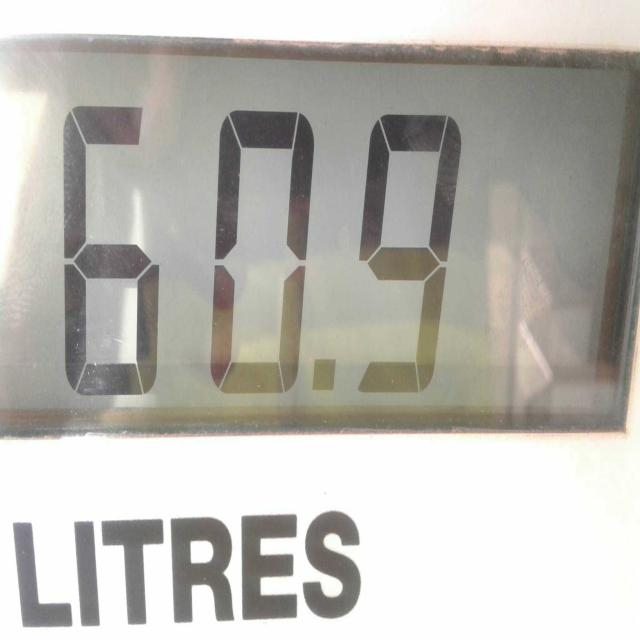.: (301, 344, 341, 417)
0: (202, 101, 325, 408)
6: (46, 79, 179, 414)
9: (344, 92, 476, 416)
